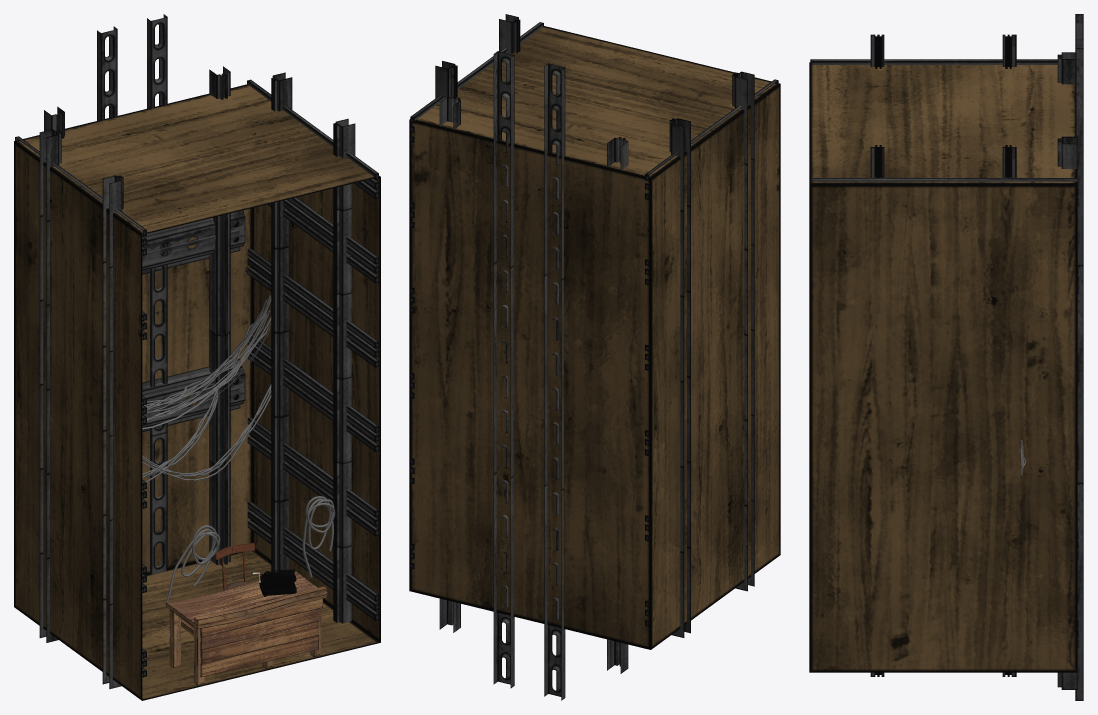
Rendered from Shop_F_Unity.fbx.
3 renders of one model, left to right at view 1: azimuth 30°, elevation 25°; view 2: azimuth 150°, elevation 25°; view 3: azimuth 270°, elevation 25°, orthographic. The views are drawn at different scales.
Parts seen in each view (by area): view 1: Punch, Lwdt_W, Roof, Right_W, Back_W, Work_bench_N, Floor, back_L3, W1, W3, W2, W6 (+4 smaller); view 2: Back_W, Lwdt_W, Punch, Roof, back_L3; view 3: Right_W, Roof, Punch, back_L3.
Boxes of the visible parts, x1=… form: Punch: x1=15, y1=14, x2=378, y2=689; Lwdt_W: x1=14, y1=141, x2=142, y2=700; Roof: x1=14, y1=84, x2=380, y2=234; Right_W: x1=252, y1=177, x2=380, y2=642; Back_W: x1=142, y1=208, x2=252, y2=574; Work_bench_N: x1=166, y1=571, x2=327, y2=685; Floor: x1=142, y1=550, x2=380, y2=700; back_L3: x1=44, y1=66, x2=230, y2=565; W1: x1=144, y1=295, x2=271, y2=419; W3: x1=142, y1=384, x2=271, y2=480; W2: x1=142, y1=316, x2=271, y2=429; W6: x1=166, y1=525, x2=220, y2=601; Back_W: x1=409, y1=120, x2=650, y2=649; Lwdt_W: x1=651, y1=84, x2=780, y2=649; Punch: x1=410, y1=14, x2=778, y2=700; Roof: x1=410, y1=26, x2=779, y2=178; back_L3: x1=439, y1=96, x2=628, y2=673; Right_W: x1=809, y1=184, x2=1077, y2=672; Roof: x1=809, y1=62, x2=1077, y2=184; Punch: x1=810, y1=14, x2=1083, y2=700; back_L3: x1=1057, y1=52, x2=1077, y2=689.
Size of the model in its own units: 10.93 by 25.47 by 9.7.
